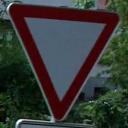preferencia: (6, 2, 122, 121)
